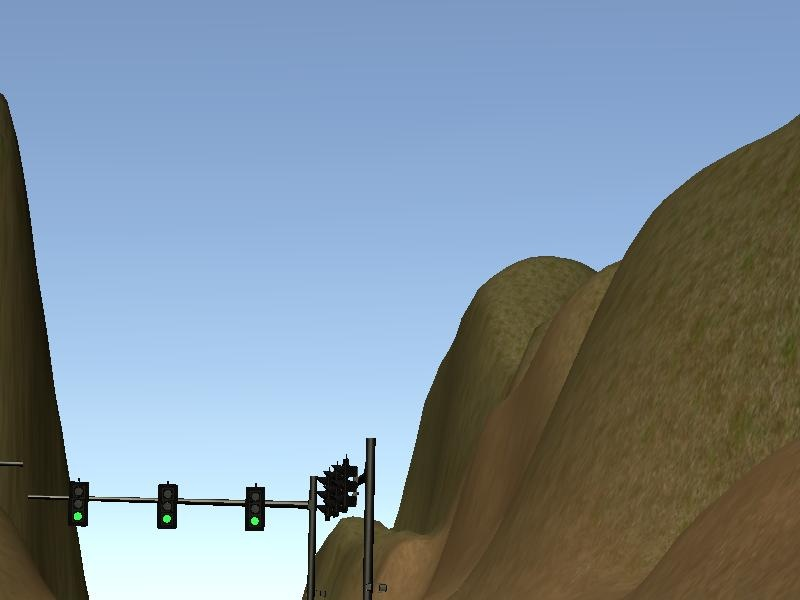GREEN: (155, 484, 180, 531), (69, 479, 89, 526), (245, 486, 265, 532)
